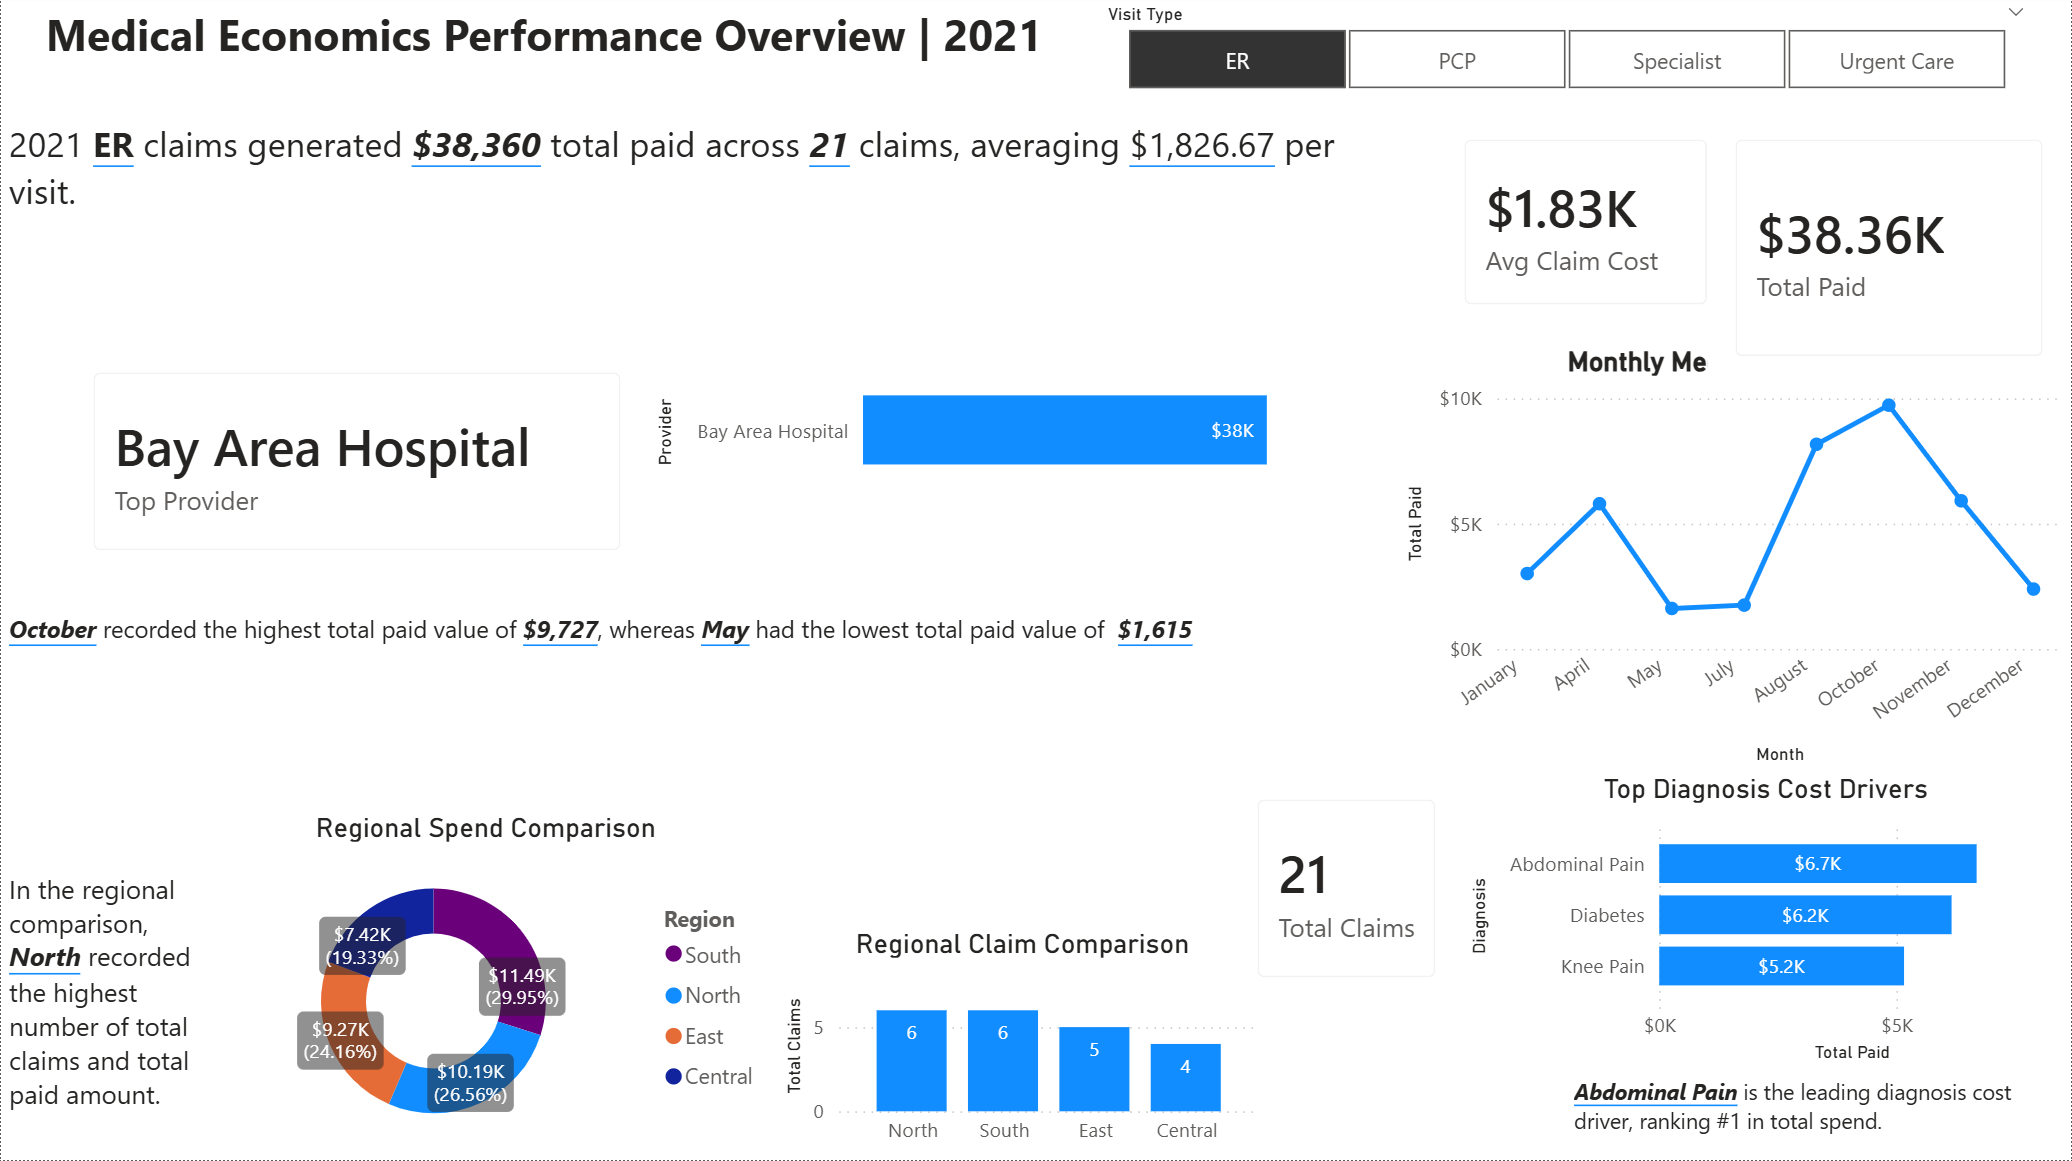

What the dashboard file says about the page in this screenshot:
{"tool":"powerbi","page":{"name":"Healthcare_Claims_Dashboard | 2021","canvas":[1280,720],"ordinal":1},"visuals":[{"type":"lineChart","title":"Monthly Medical Cost Trend","fields":{"Y":["claims_data.Total Paid"],"Category":["claims_data.service_date.Variation.Date Hierarchy.Month"]},"box":[864,216,416,264],"z":2000},{"type":"clusteredBarChart","title":"Top Diagnosis Cost Drivers","fields":{"Category":["claims_data.diagnosis"],"Y":["claims_data.Total Paid"]},"box":[904,480,376,184],"z":4000},{"type":"clusteredBarChart","title":"Top Providers by Spend","fields":{"Category":["claims_data.provider"],"Y":["claims_data.Total Paid"]},"box":[400,136,432,240],"z":6000},{"type":"slicer","fields":{"Values":["claims_data.visit_type"]},"box":[672,0,592,64],"z":7000},{"type":"donutChart","title":"Regional Spend Comparison","fields":{"Category":["claims_data.region"],"Y":["claims_data.Total Paid"]},"box":[120,504,360,216],"z":8000},{"type":"textbox","box":[0,0,672,48],"z":9000},{"type":"textbox","box":[968,664,312,56],"z":13000},{"type":"columnChart","title":"Regional Claim Comparison","fields":{"Category":["claims_data.region"],"Y":["claims_data.Total Claims"]},"box":[480,576,304,144],"z":14000},{"type":"textbox","box":[0,376,864,32],"z":15000},{"type":"textbox","box":[0,72,864,88],"z":16000},{"type":"textbox","box":[0,536,128,184],"z":17000},{"type":"cardVisual","fields":{"Data":["claims_data.Total Paid"]},"box":[1056,72,224,168],"z":18000},{"type":"cardVisual","fields":{"Data":["claims_data.Avg Claim Cost"]},"box":[888,72,184,136],"z":19000},{"type":"cardVisual","fields":{"Data":["claims_data.Top Provider"]},"box":[40,216,360,144],"z":20000},{"type":"cardVisual","fields":{"Data":["claims_data.Total Claims"]},"box":[760,480,144,144],"z":21000}]}

Visuals, with their boxes in screenshot pixels (x1, y1, x2, y2), scaled from the page's 1280x720 canvas onto the 2072x1161 screenshot:
"Monthly Medical Cost Trend" lineChart: BBox(1399, 348, 2071, 774)
"Top Diagnosis Cost Drivers" clusteredBarChart: BBox(1463, 774, 2071, 1071)
"Top Providers by Spend" clusteredBarChart: BBox(648, 219, 1347, 606)
slicer - claims_data.visit_type: BBox(1088, 0, 2046, 103)
"Regional Spend Comparison" donutChart: BBox(194, 813, 777, 1160)
textbox: BBox(0, 0, 1088, 77)
textbox: BBox(1567, 1071, 2071, 1160)
"Regional Claim Comparison" columnChart: BBox(777, 929, 1269, 1160)
textbox: BBox(0, 606, 1399, 658)
textbox: BBox(0, 116, 1399, 258)
textbox: BBox(0, 864, 207, 1160)
cardVisual - claims_data.Total Paid: BBox(1709, 116, 2071, 387)
cardVisual - claims_data.Avg Claim Cost: BBox(1437, 116, 1735, 335)
cardVisual - claims_data.Top Provider: BBox(65, 348, 648, 580)
cardVisual - claims_data.Total Claims: BBox(1230, 774, 1463, 1006)
